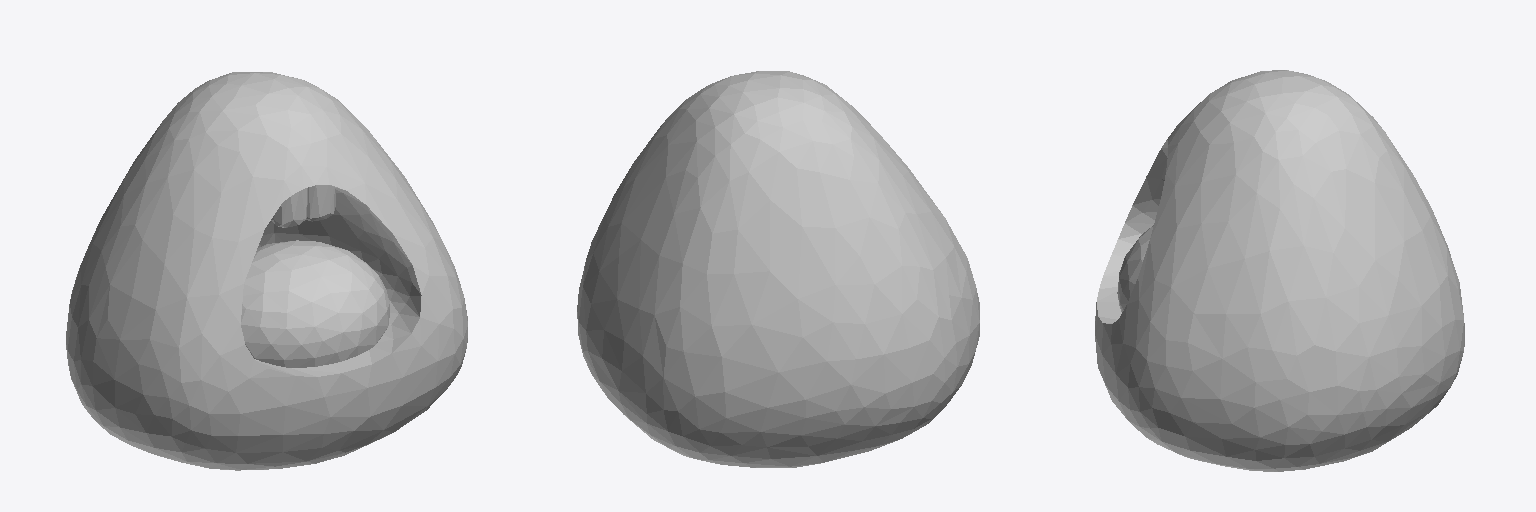
File: pawn.obj
3 views of the same model, side by side, from view 1: azimuth 30°, elevation 25°; view 2: azimuth 150°, elevation 25°; view 3: azimuth 270°, elevation 25° (orthographic).
Parts seen in each view (by area): view 1: pawn; view 2: pawn; view 3: pawn.
Part boxes in pixels (x1,y1,x2,y2): pawn: (66,72,467,470); pawn: (577,71,979,467); pawn: (1095,70,1464,471).
Size of the model in its own units: 0.8913 by 0.8315 by 0.8096.